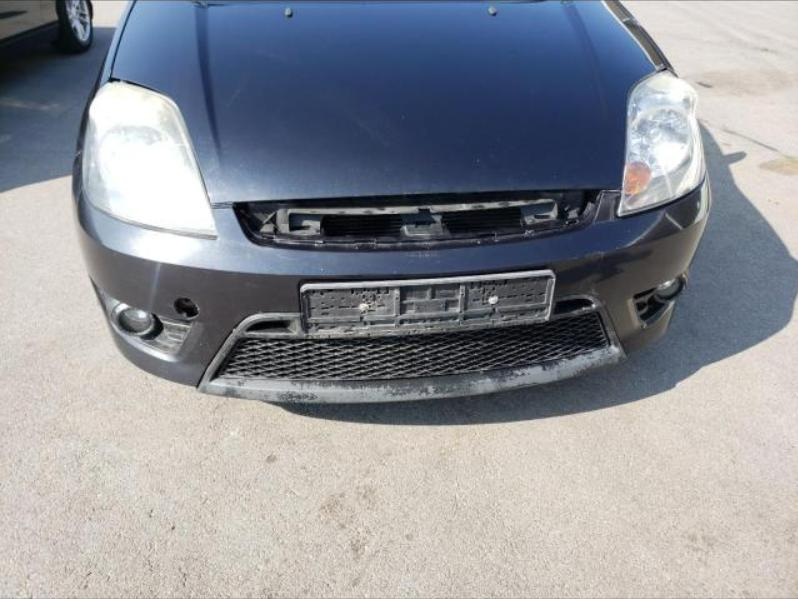Fender: (602, 1, 675, 73), (98, 0, 133, 88)
Front-bumper: (74, 175, 712, 388)
Grille: (200, 297, 623, 404)
Headlight: (74, 81, 219, 238), (617, 68, 705, 216)
Hood: (113, 2, 660, 208)
License-plate: (302, 271, 556, 338)
